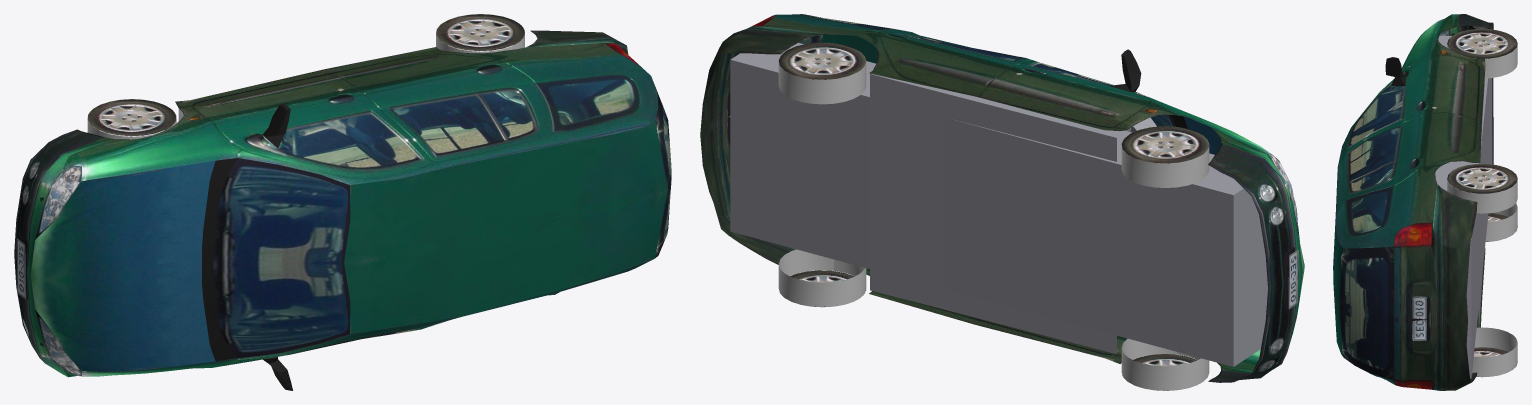
Rendered from Car_06.obj.
3 views of the same model, side by side, from view 1: azimuth 30°, elevation 25°; view 2: azimuth 150°, elevation 25°; view 3: azimuth 270°, elevation 25° (orthographic). The views are drawn at different scales.
Parts seen in each view (by area): view 1: _6body, _6tyres, _6tyresurf; view 2: _6fill, _6body, _6tyresurf, _6tyres, _6plates; view 3: _6body, _6tyresurf, _6tyres, _6fill, _6plates.
Boxes of the visible parts, left/top/right/bottom form: _6body: left=14, top=30, right=671, bottom=390; _6tyres: left=87, top=14, right=524, bottom=136; _6tyresurf: left=87, top=14, right=524, bottom=139; _6fill: left=730, top=42, right=1267, bottom=366; _6body: left=700, top=14, right=1304, bottom=382; _6tyresurf: left=778, top=48, right=1209, bottom=390; _6tyres: left=778, top=42, right=1208, bottom=390; _6plates: left=728, top=116, right=1298, bottom=309; _6body: left=1333, top=14, right=1493, bottom=390; _6tyresurf: left=1447, top=29, right=1517, bottom=377; _6tyres: left=1447, top=29, right=1517, bottom=376; _6fill: left=1435, top=36, right=1492, bottom=378; _6plates: left=1412, top=296, right=1426, bottom=340.
Size of the model in its own units: 4.55 by 2.04 by 1.52.
